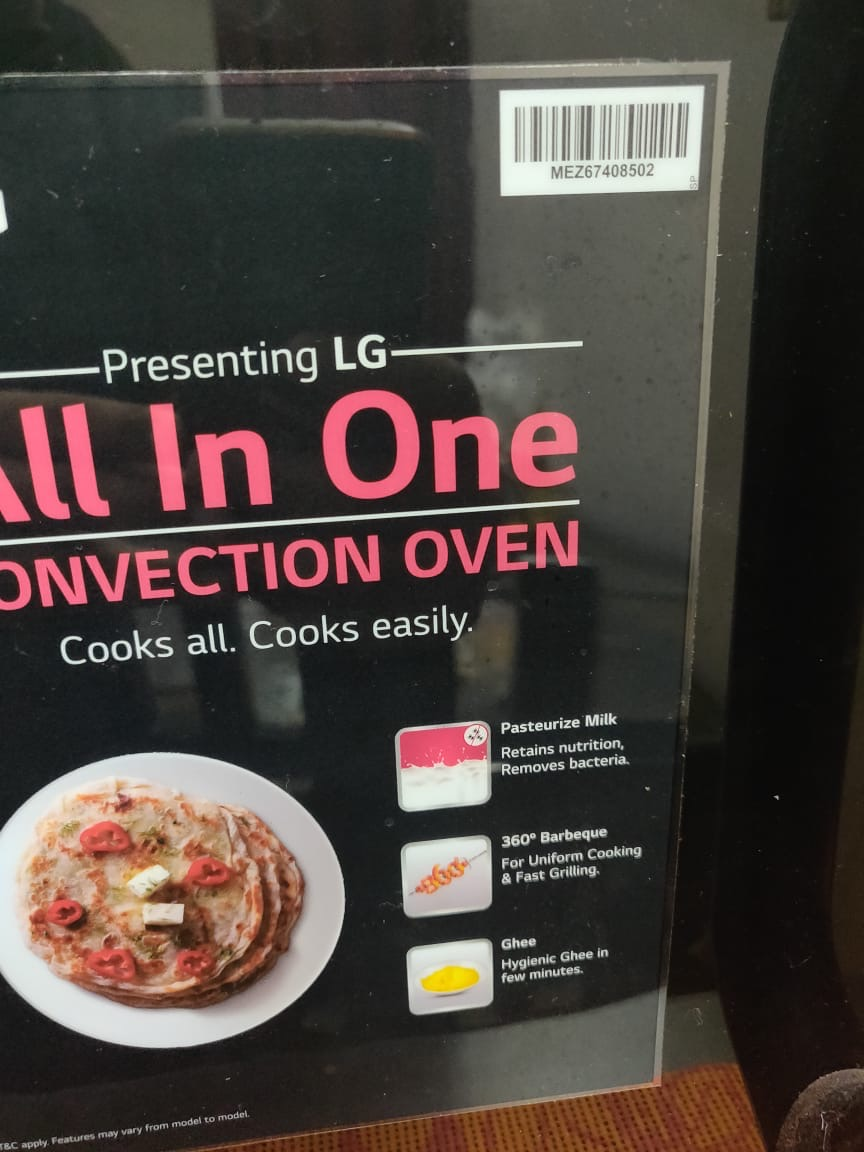barcode: (501, 99, 697, 188)
